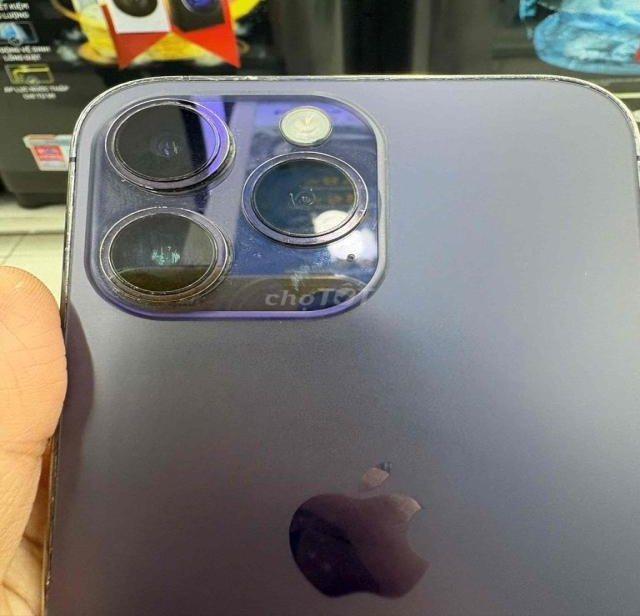scratch: (102, 68, 640, 116), (61, 229, 223, 317), (233, 241, 412, 302), (96, 175, 278, 232)
